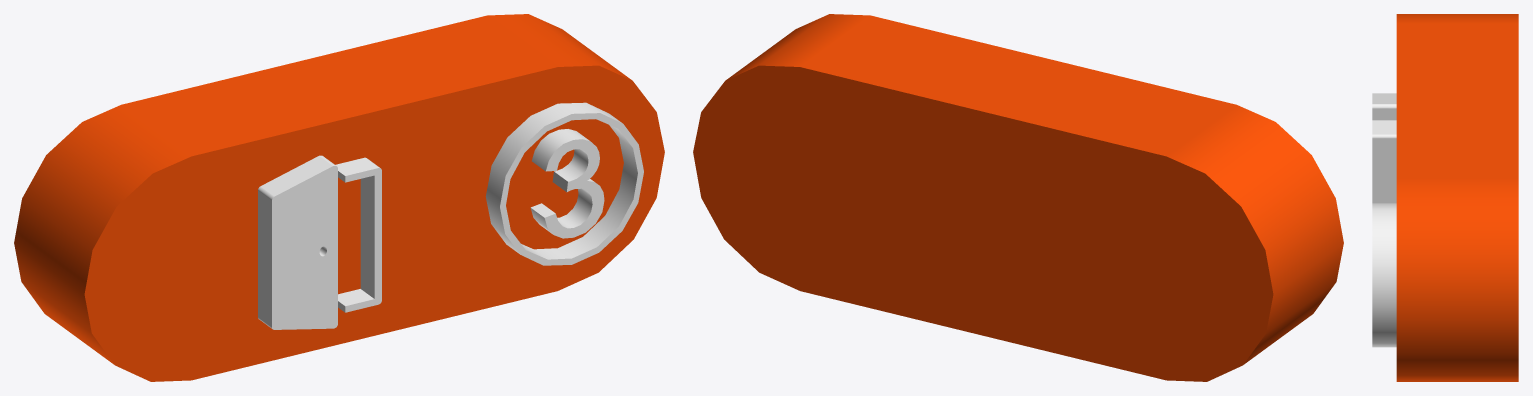
Rendered from Door_3.fbx.
3 renders of one model, left to right at view 1: azimuth 30°, elevation 25°; view 2: azimuth 150°, elevation 25°; view 3: azimuth 270°, elevation 25°, orthographic. The views are drawn at different scales.
Visible parts, largest first — view 1: Orange, Object_6, Object_1, Object_4, Object_5; view 2: Orange; view 3: Orange, Object_1, Object_5, Object_6.
Boxes of the visible parts, bbox=[...] form: Orange: bbox=[14, 14, 664, 381]; Object_6: bbox=[258, 155, 337, 329]; Object_1: bbox=[485, 102, 643, 265]; Object_4: bbox=[530, 129, 604, 238]; Object_5: bbox=[335, 157, 381, 312]; Orange: bbox=[693, 14, 1343, 381]; Orange: bbox=[1396, 14, 1518, 381]; Object_1: bbox=[1372, 203, 1396, 347]; Object_5: bbox=[1372, 120, 1396, 203]; Object_6: bbox=[1372, 93, 1396, 120].
Bounding box in the file's own units: 4.75 × 1.2 × 1.75.
